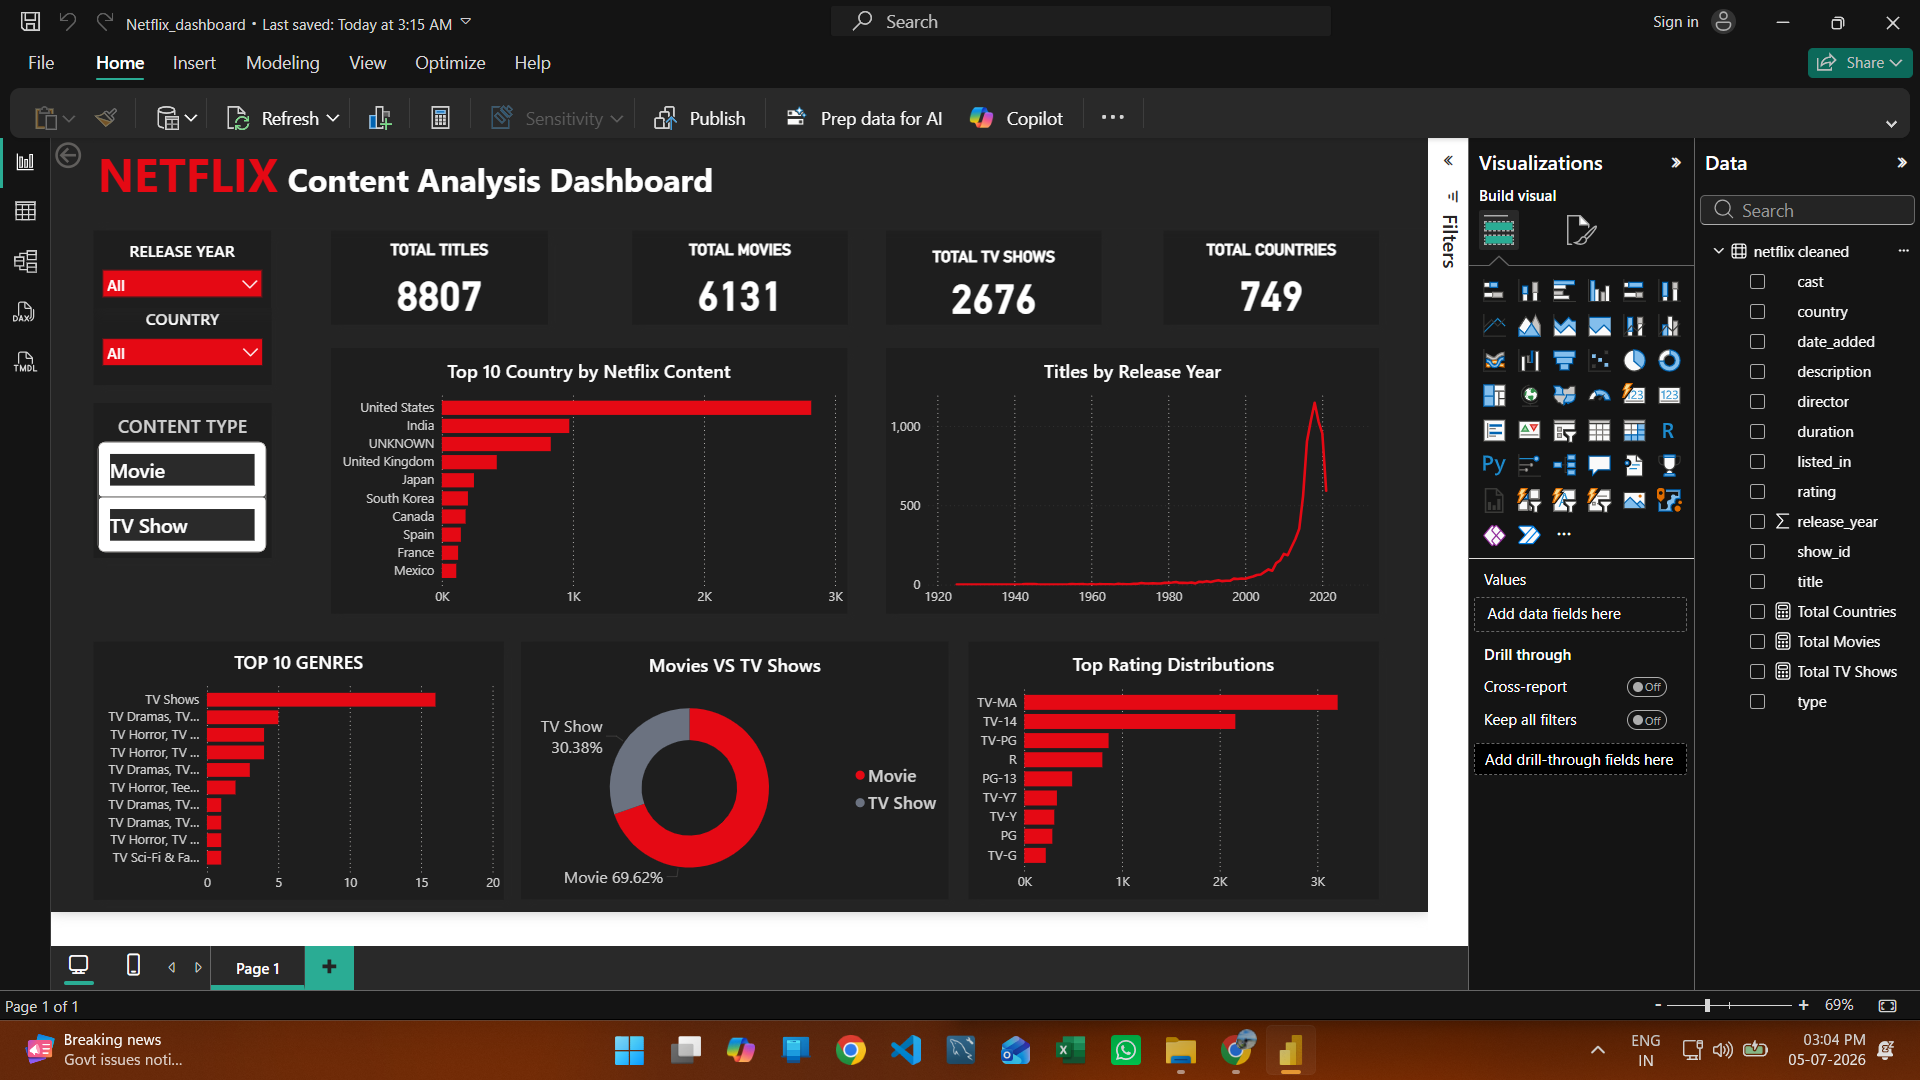

What the dashboard file says about the page in this screenshot:
{"tool":"powerbi","page":{"name":"Page 1","canvas":[1600,900],"ordinal":0},"visuals":[{"type":"card","title":"TOTAL TITLES","fields":{"Values":["CountNonNull(netflix cleaned.show_id)"]},"box":[325.5,108,252,109.5],"z":0},{"type":"card","title":"TOTAL MOVIES","fields":{"Values":["netflix cleaned.Total Movies"]},"box":[674.9,108,250.5,109.5],"z":1000},{"type":"card","title":"TOTAL TV SHOWS","fields":{"Values":["netflix cleaned.Total TV Shows"]},"box":[970.4,108,250.5,109.5],"z":2000},{"type":"card","title":"TOTAL COUNTRIES","fields":{"Values":["netflix cleaned.Total Countries"]},"box":[1292.8,108,250.5,109.5],"z":3000},{"type":"donutChart","title":"Movies VS TV Shows","fields":{"Category":["netflix cleaned.type"],"Y":["CountNonNull(netflix cleaned.show_id)"]},"box":[546.1,585.3,496.7,299.2],"z":4000},{"type":"clusteredBarChart","title":"Top 10 Country by Netflix Content","fields":{"Category":["netflix cleaned.country"],"Y":["CountNonNull(netflix cleaned.show_id)"]},"box":[325.5,244.5,599.9,309],"z":5000},{"type":"textbox","box":[49.5,0,1550.8,97.5],"z":6000},{"type":"lineChart","title":"Titles by Release Year","fields":{"Y":["CountNonNull(netflix cleaned.show_id)"],"Category":["netflix cleaned.release_year"]},"box":[970.4,244.5,572.9,309],"z":7000},{"type":"clusteredBarChart","title":"Top Rating Distributions","fields":{"Category":["netflix cleaned.rating"],"Y":["CountNonNull(netflix cleaned.show_id)"]},"box":[1066.1,585.3,476.4,299.2],"z":8000},{"type":"clusteredBarChart","title":"TOP 10 GENRES","fields":{"Category":["netflix cleaned.listed_in"],"Y":["CountNonNull(netflix cleaned.show_id)"]},"box":[49.5,584.9,476.9,300],"z":9000},{"type":"advancedSlicerVisual","title":"CONTENT TYPE","fields":{"Values":["netflix cleaned.type"]},"box":[49.5,307.5,207,180],"z":10000},{"type":"slicer","title":"COUNTRY","fields":{"Values":["netflix cleaned.country"]},"box":[49.5,198,207,90],"z":11000},{"type":"actionButton","box":[0,0,100,40],"z":12000},{"type":"slicer","title":"RELEASE YEAR","fields":{"Values":["netflix cleaned.release_year","netflix cleaned.type"]},"box":[49.5,108,206,90],"z":13000}]}

Visuals, with their boxes on the page's 1600x900 design canvas (x1, y1, x2, y2). These are canvas units, not pixel positions in the 1920x1080 screenshot, which may show the page scaled, cropped or inside an application window:
"TOTAL TITLES" card: detection(326, 108, 578, 218)
"TOTAL MOVIES" card: detection(675, 108, 925, 218)
"TOTAL TV SHOWS" card: detection(970, 108, 1221, 218)
"TOTAL COUNTRIES" card: detection(1293, 108, 1543, 218)
"Movies VS TV Shows" donutChart: detection(546, 585, 1043, 884)
"Top 10 Country by Netflix Content" clusteredBarChart: detection(326, 244, 925, 554)
textbox: detection(50, 0, 1600, 98)
"Titles by Release Year" lineChart: detection(970, 244, 1543, 554)
"Top Rating Distributions" clusteredBarChart: detection(1066, 585, 1542, 884)
"TOP 10 GENRES" clusteredBarChart: detection(50, 585, 526, 885)
"CONTENT TYPE" advancedSlicerVisual: detection(50, 308, 256, 488)
"COUNTRY" slicer: detection(50, 198, 256, 288)
actionButton: detection(0, 0, 100, 40)
"RELEASE YEAR" slicer: detection(50, 108, 256, 198)
